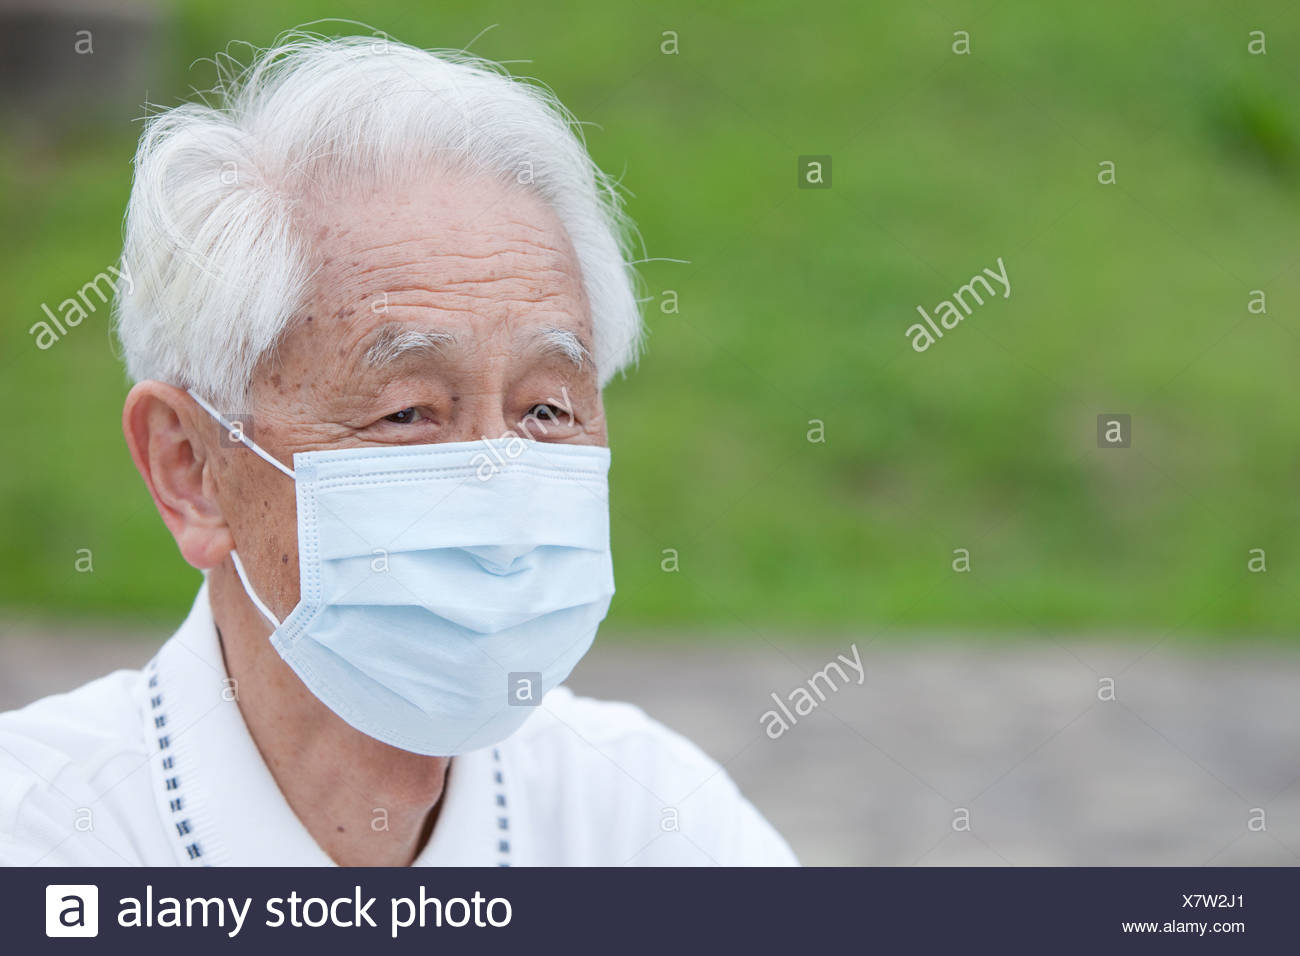mask: (247, 439, 616, 756)
